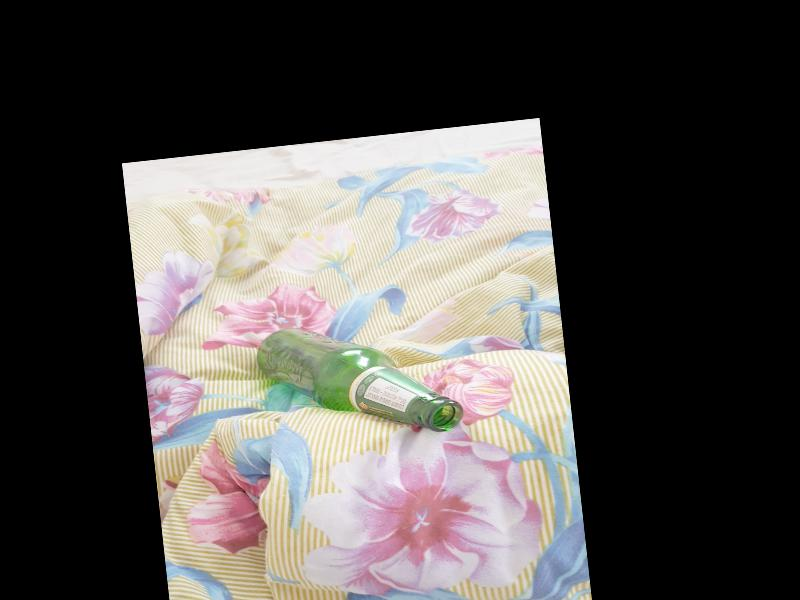Beer: (256, 311, 464, 451)
